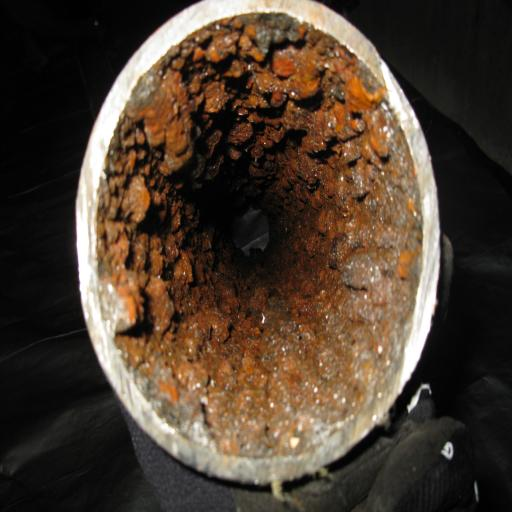segmentation: (76, 0, 440, 499)
